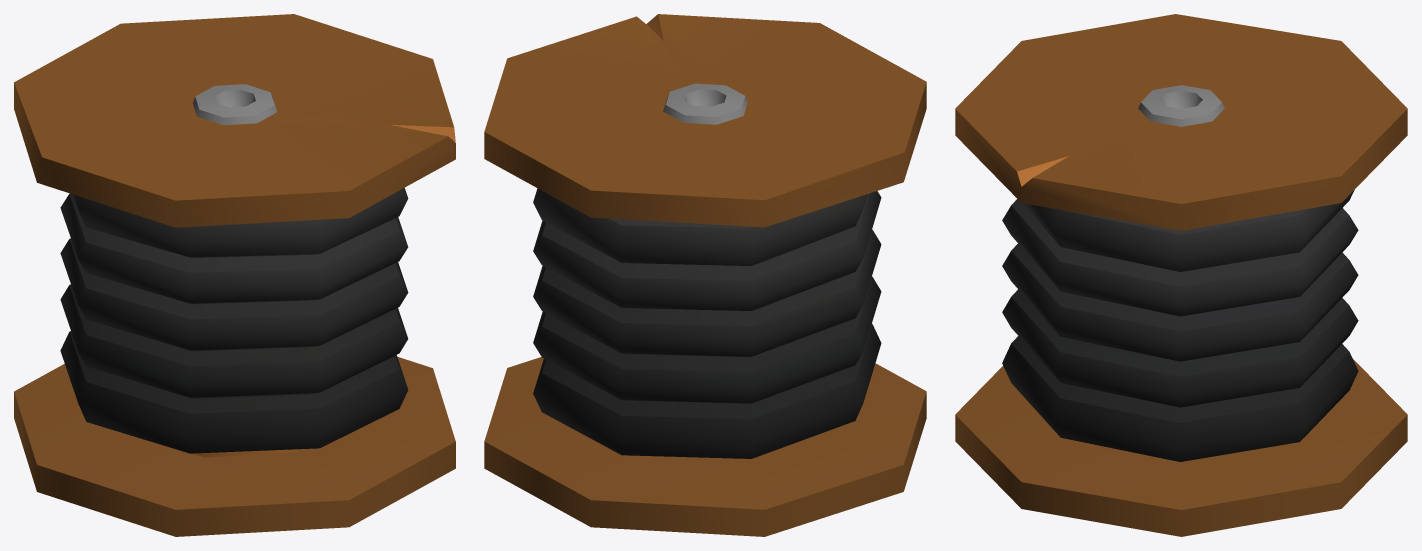
The model's file is Spool_1_2.glb.
3 views of the same model, side by side, from view 1: azimuth 30°, elevation 25°; view 2: azimuth 150°, elevation 25°; view 3: azimuth 270°, elevation 25° (orthographic).
Parts seen in each view (by area): view 1: Spool_1_2; view 2: Spool_1_2; view 3: Spool_1_2.
Part boxes in pixels (x1=…): Spool_1_2: x1=14, y1=14, x2=455, y2=536; Spool_1_2: x1=484, y1=14, x2=926, y2=536; Spool_1_2: x1=955, y1=14, x2=1407, y2=536.
Bounding box in the file's own units: 1.21 × 1.02 × 1.21.
Materials: 2 (2 with a texture image).
